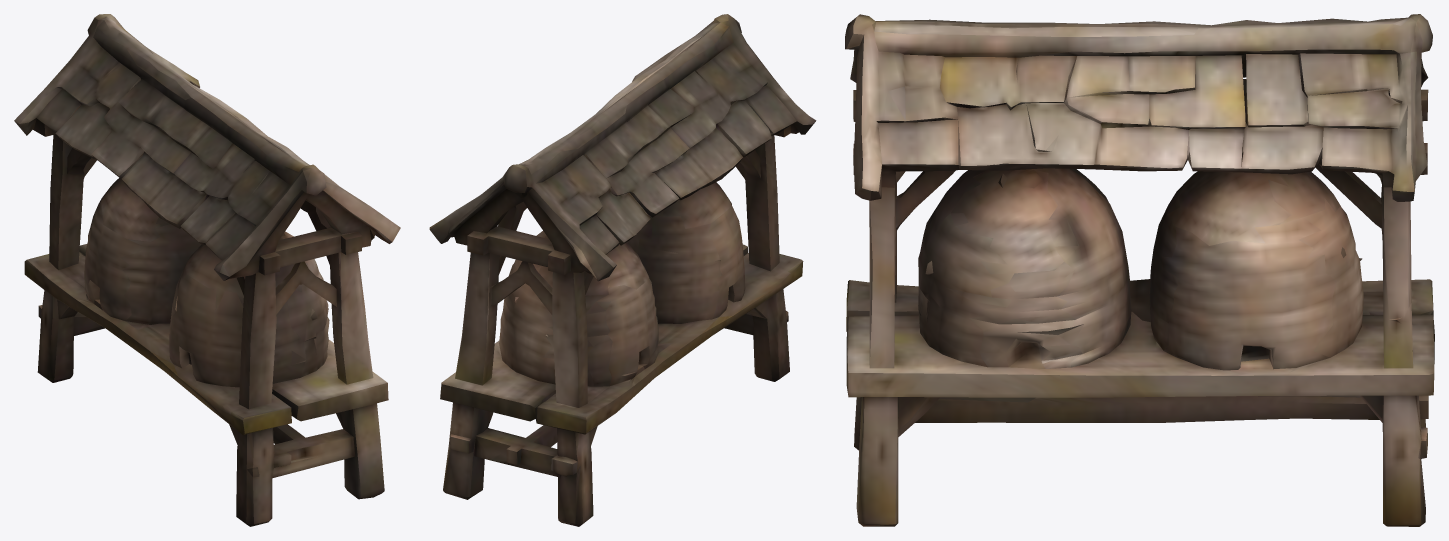
File: prop-beehives.glb
The picture shows the model from 3 angles, left to right: view 1: azimuth 30°, elevation 25°; view 2: azimuth 150°, elevation 25°; view 3: azimuth 270°, elevation 25°; orthographic projection. The views are drawn at different scales.
Visible parts, largest first — view 1: prop-beehives; view 2: prop-beehives; view 3: prop-beehives.
Boxes of the visible parts, box(x1,y1,x2,y2) form: prop-beehives: box(14, 14, 400, 526); prop-beehives: box(429, 14, 816, 526); prop-beehives: box(845, 14, 1434, 526).
Bounding box in the file's own units: 0.9699 × 1.74 × 2.
Materials: 1 (1 with a texture image).
